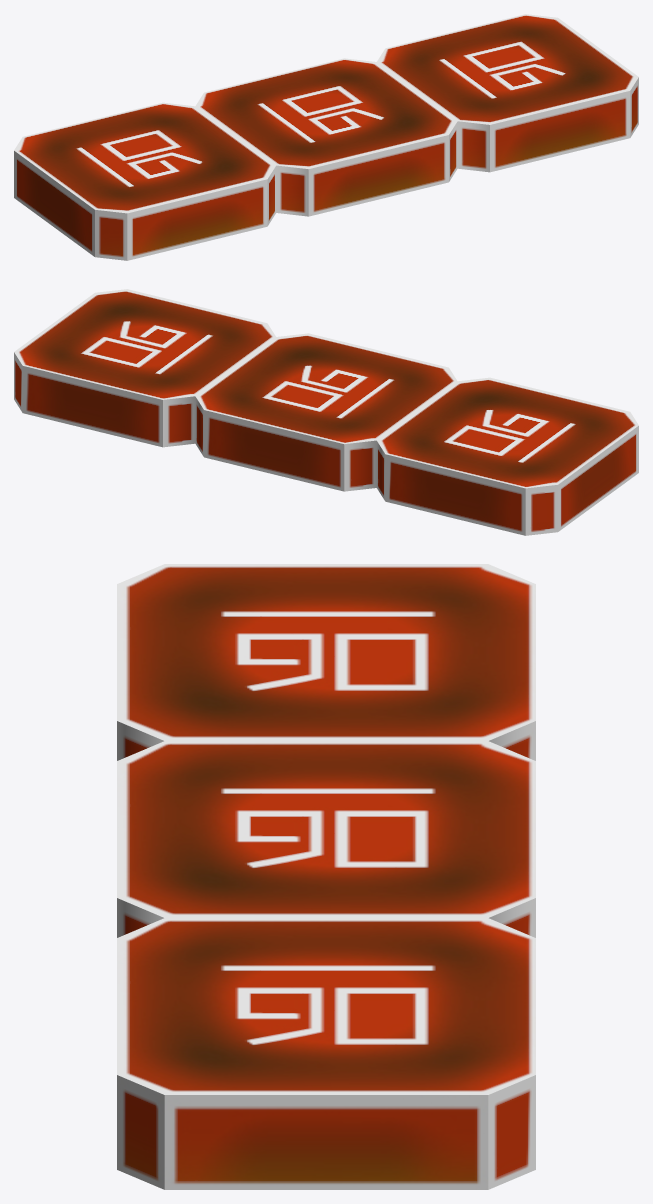
File: MG-ChJ-CS-06PingTaiKuai-3.FBX
3 views of the same model, one above another, from view 1: azimuth 30°, elevation 25°; view 2: azimuth 150°, elevation 25°; view 3: azimuth 270°, elevation 25° (orthographic). The views are drawn at different scales.
Parts seen in each view (by area): view 1: MG-ChJ-CS-06PingTaiKuai-3; view 2: MG-ChJ-CS-06PingTaiKuai-3; view 3: MG-ChJ-CS-06PingTaiKuai-3.
Part boxes in pixels (x1=…): MG-ChJ-CS-06PingTaiKuai-3: x1=14, y1=14, x2=638, y2=260; MG-ChJ-CS-06PingTaiKuai-3: x1=14, y1=289, x2=638, y2=535; MG-ChJ-CS-06PingTaiKuai-3: x1=117, y1=564, x2=535, y2=1189.
Size of the model in its own units: 118 by 9.84 by 39.37.
